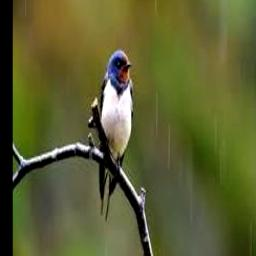Swallow: (99, 50, 134, 221)
